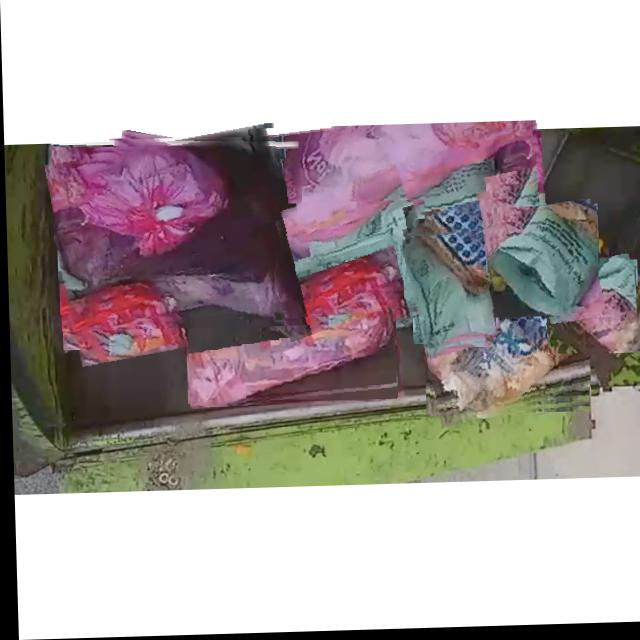general_trashbag: (274, 204, 425, 311), (490, 209, 597, 318), (402, 239, 494, 350)
other_trashbag: (53, 140, 307, 326), (249, 125, 533, 253), (186, 265, 393, 408), (427, 273, 587, 417), (109, 139, 254, 251), (545, 268, 636, 355)
